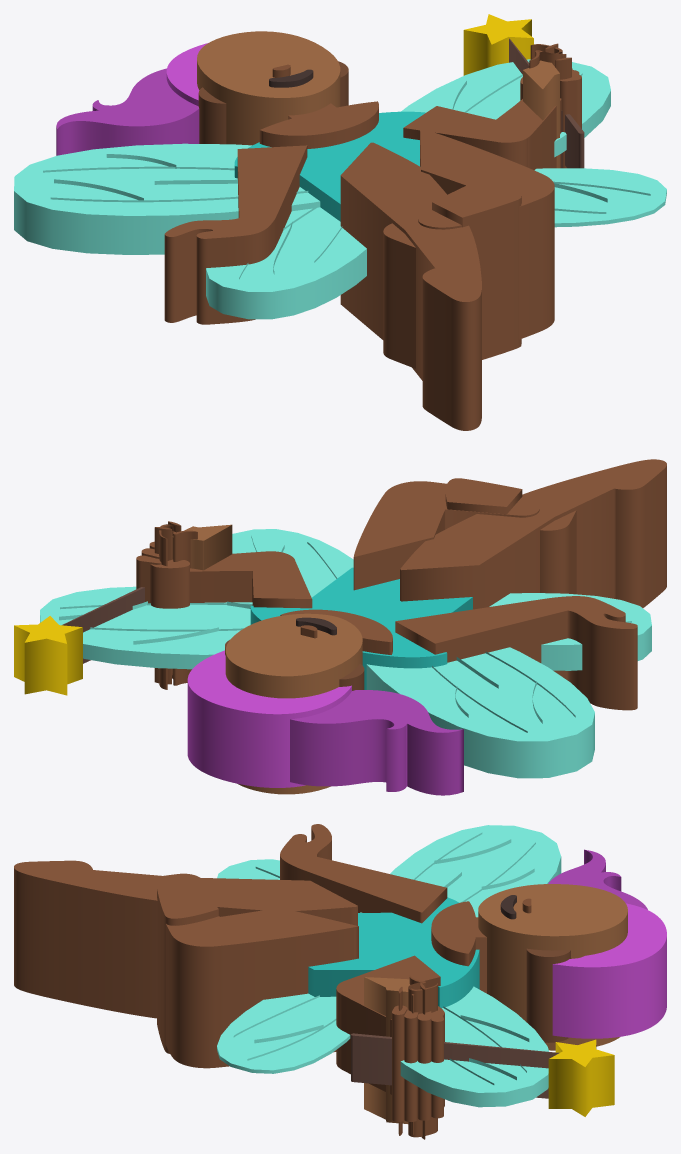
File: emoji_u1f9da_1f3fe_200d_2640.glb
The picture shows the model from 3 angles, top to bottom: view 1: azimuth 30°, elevation 25°; view 2: azimuth 150°, elevation 25°; view 3: azimuth 270°, elevation 25°; orthographic projection. The views are drawn at different scales.
Visible parts, largest first — view 1: emoji_u1f9da_1f3fe_200d_2640; view 2: emoji_u1f9da_1f3fe_200d_2640; view 3: emoji_u1f9da_1f3fe_200d_2640.
Boxes of the visible parts, <box> form: emoji_u1f9da_1f3fe_200d_2640: <box>14,14,666,430</box>; emoji_u1f9da_1f3fe_200d_2640: <box>14,459,666,795</box>; emoji_u1f9da_1f3fe_200d_2640: <box>14,824,666,1139</box>.
Size of the model in its own units: 0.0309 by 0.0084 by 0.0331.
